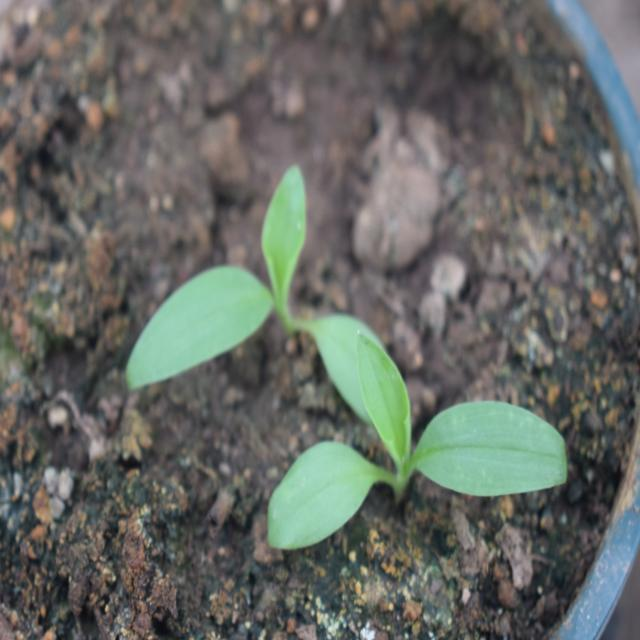Common Dayflower: (268, 319, 564, 557), (104, 170, 342, 398)
